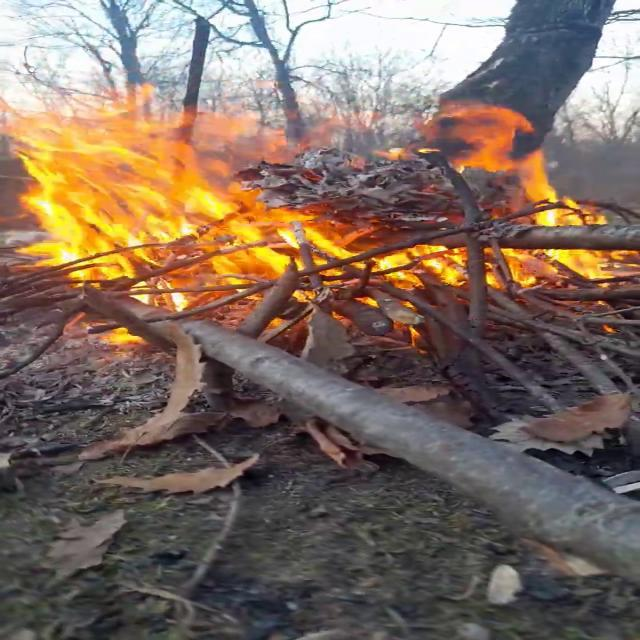Fire: (2, 80, 348, 338), (390, 106, 638, 297)
